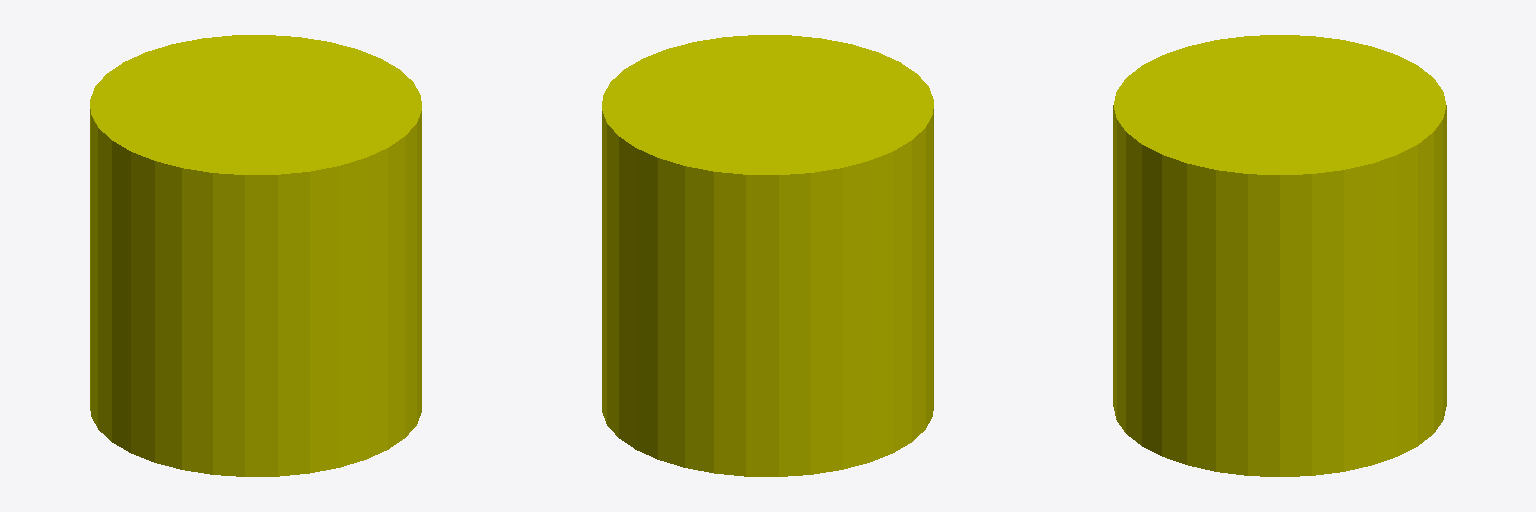
Rendered from GiantsHome1_Stool.obj.
3 views of the same model, side by side, from view 1: azimuth 30°, elevation 25°; view 2: azimuth 150°, elevation 25°; view 3: azimuth 270°, elevation 25° (orthographic).
Parts seen in each view (by area): view 1: Cylinder.002; view 2: Cylinder.002; view 3: Cylinder.002.
Boxes of the visible parts, x1=… form: Cylinder.002: x1=90, y1=35, x2=421, y2=476; Cylinder.002: x1=602, y1=35, x2=933, y2=476; Cylinder.002: x1=1113, y1=35, x2=1446, y2=476.
Bounding box in the file's own units: 2.79 × 2.79 × 2.79.